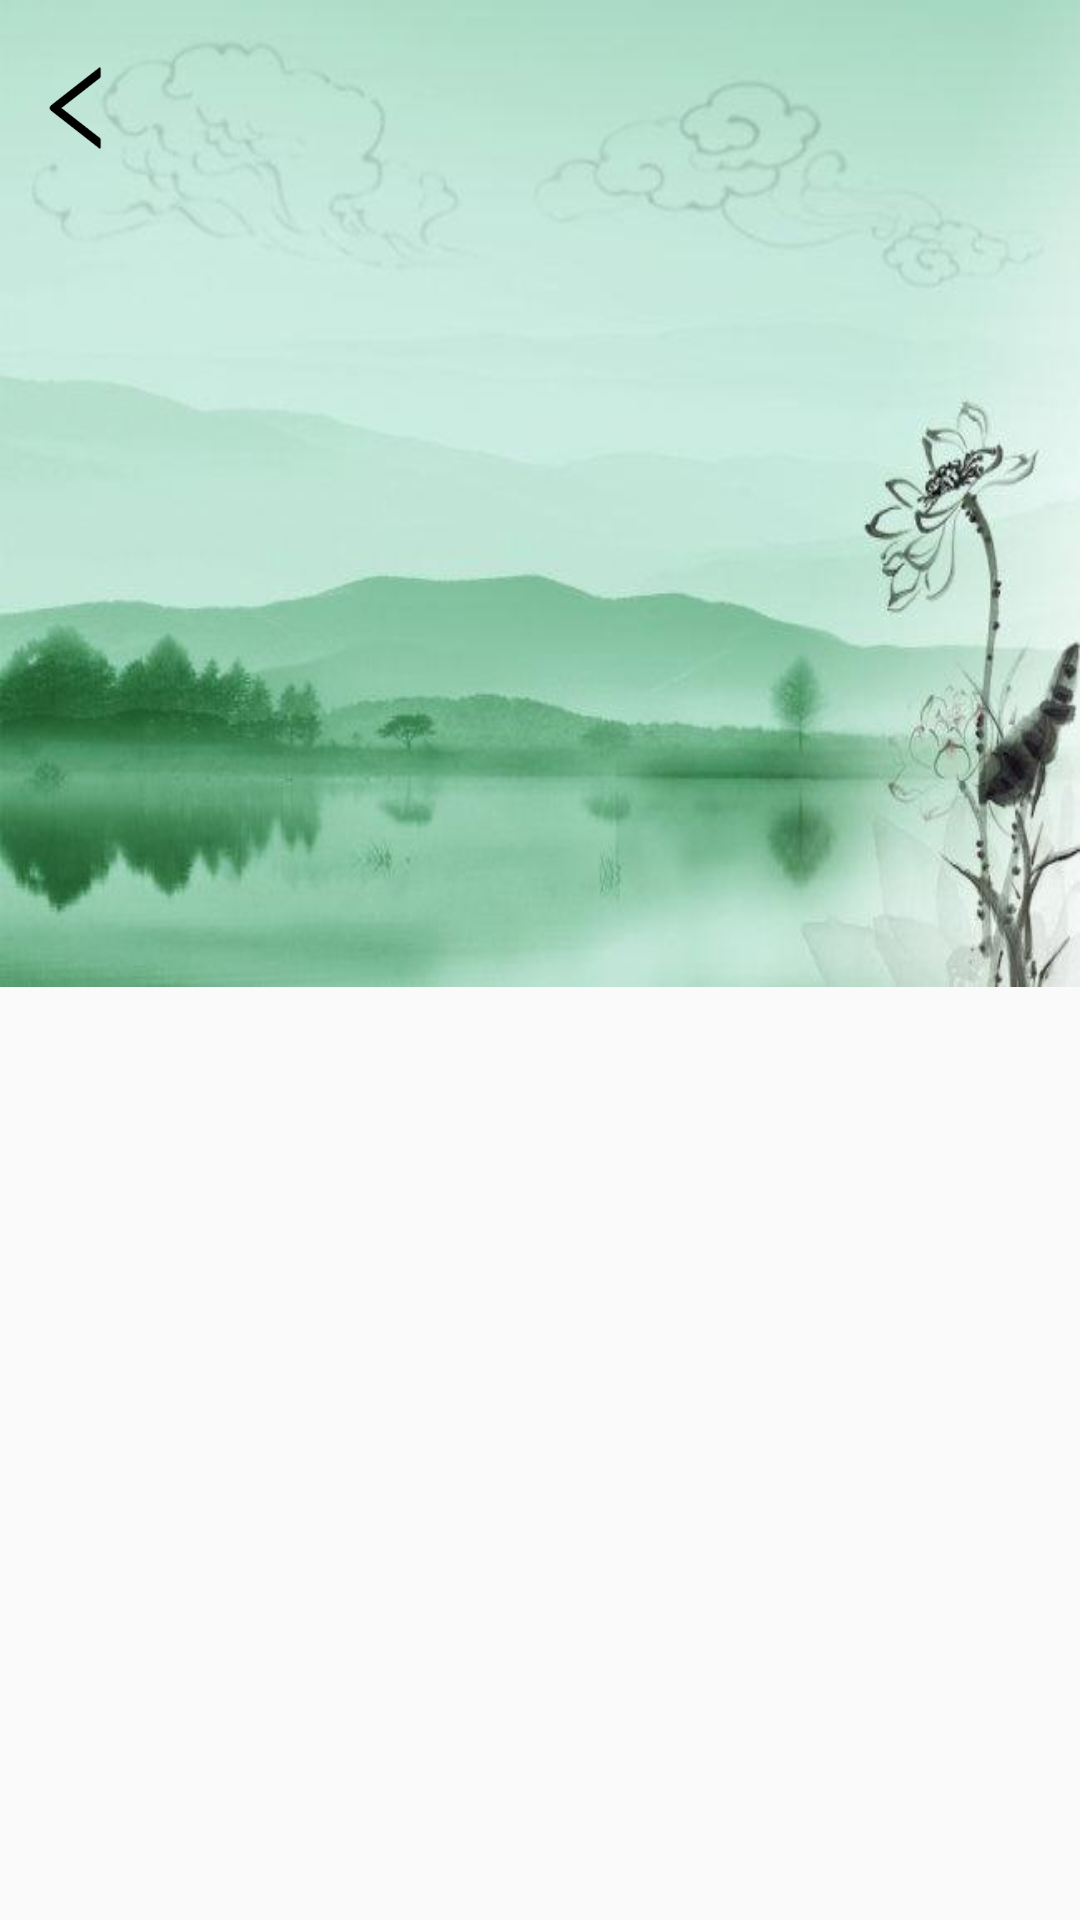

Icon bounding boxes for this 1080 x 1920 phone screenshot, format (x1, y1, x2, y2):
left: (49, 67, 118, 149)
